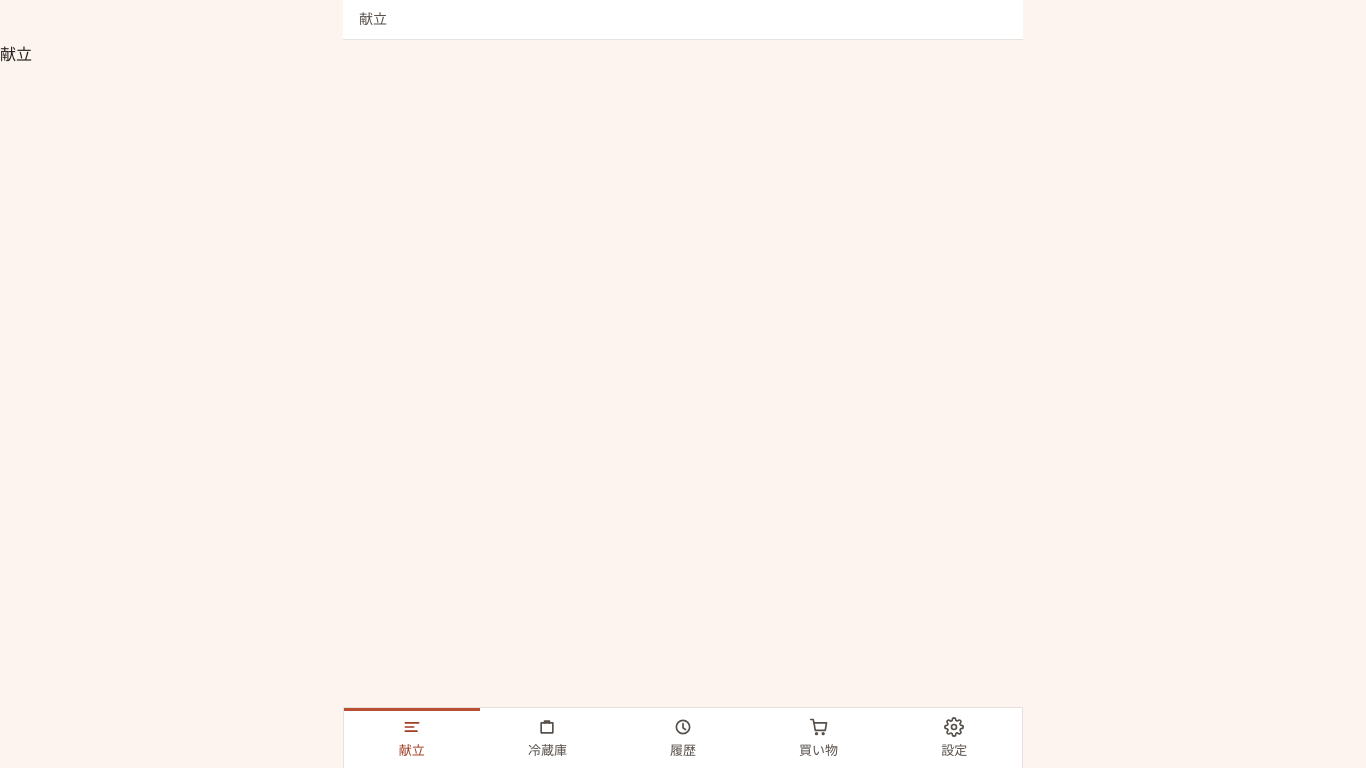
Test case: AppShell planner leave flush (P2) › awaits leave flush and navigates only on proceed
Click the link "設定": (954, 738) [941, 717, 967, 759]
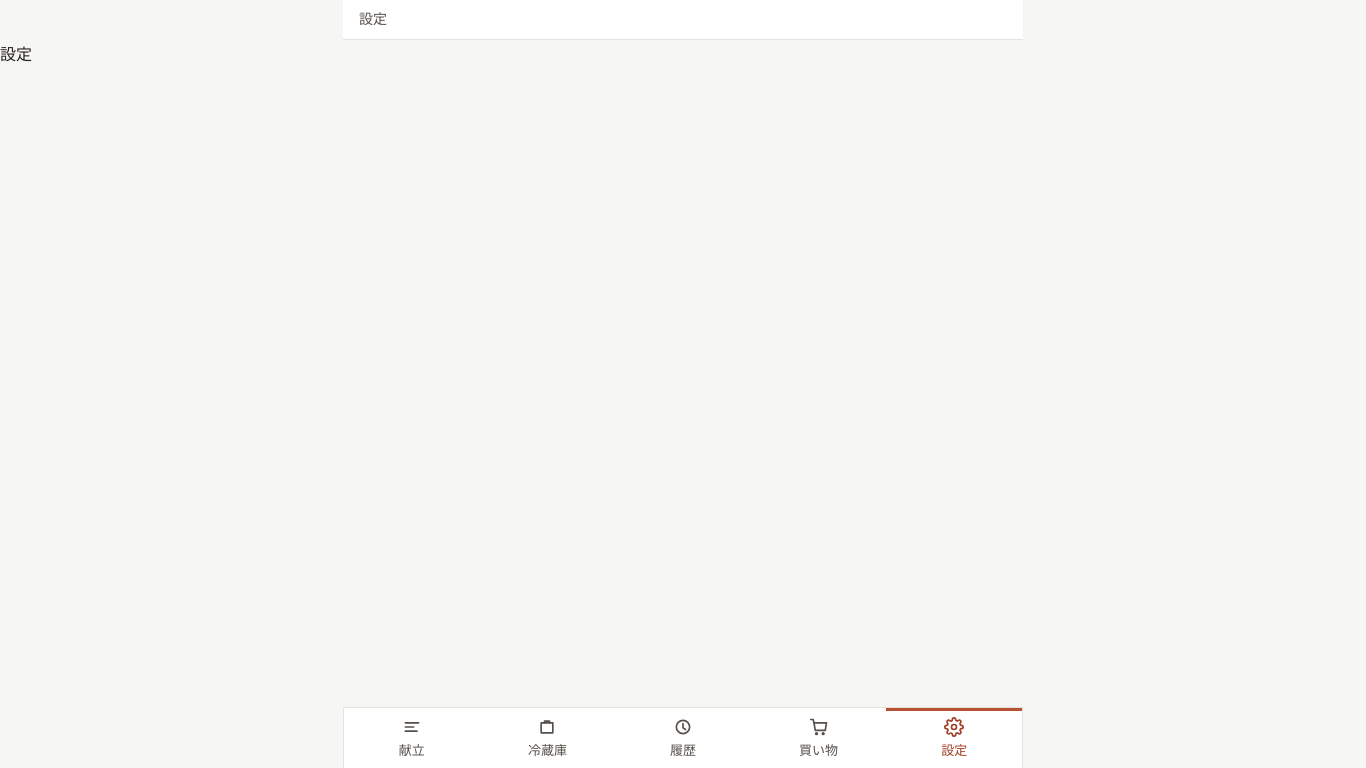
Expected: the heading "設定" is shown, [0, 43, 32, 65]
